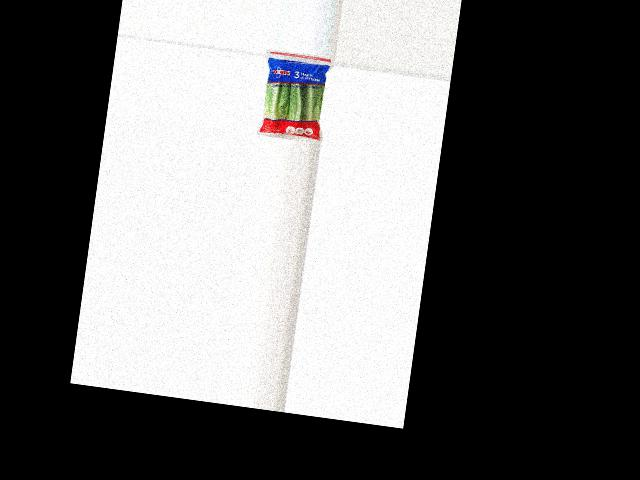lettuce: (257, 55, 331, 143)
